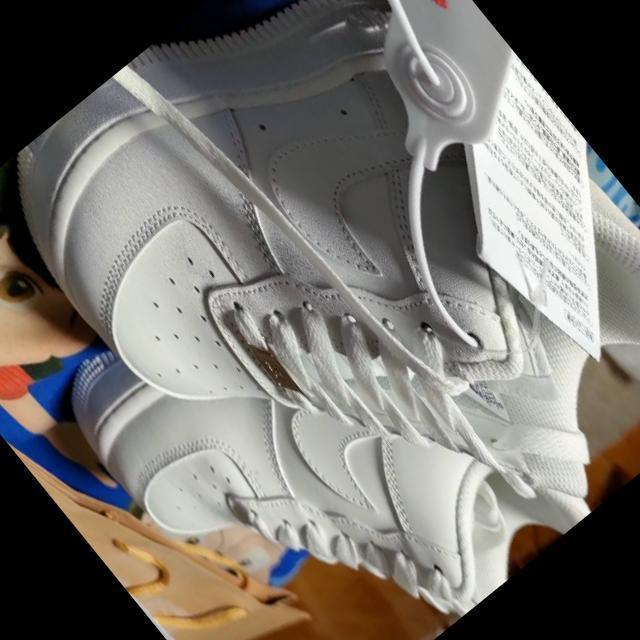nike fake air force: (0, 0, 640, 640), (50, 173, 594, 640)
